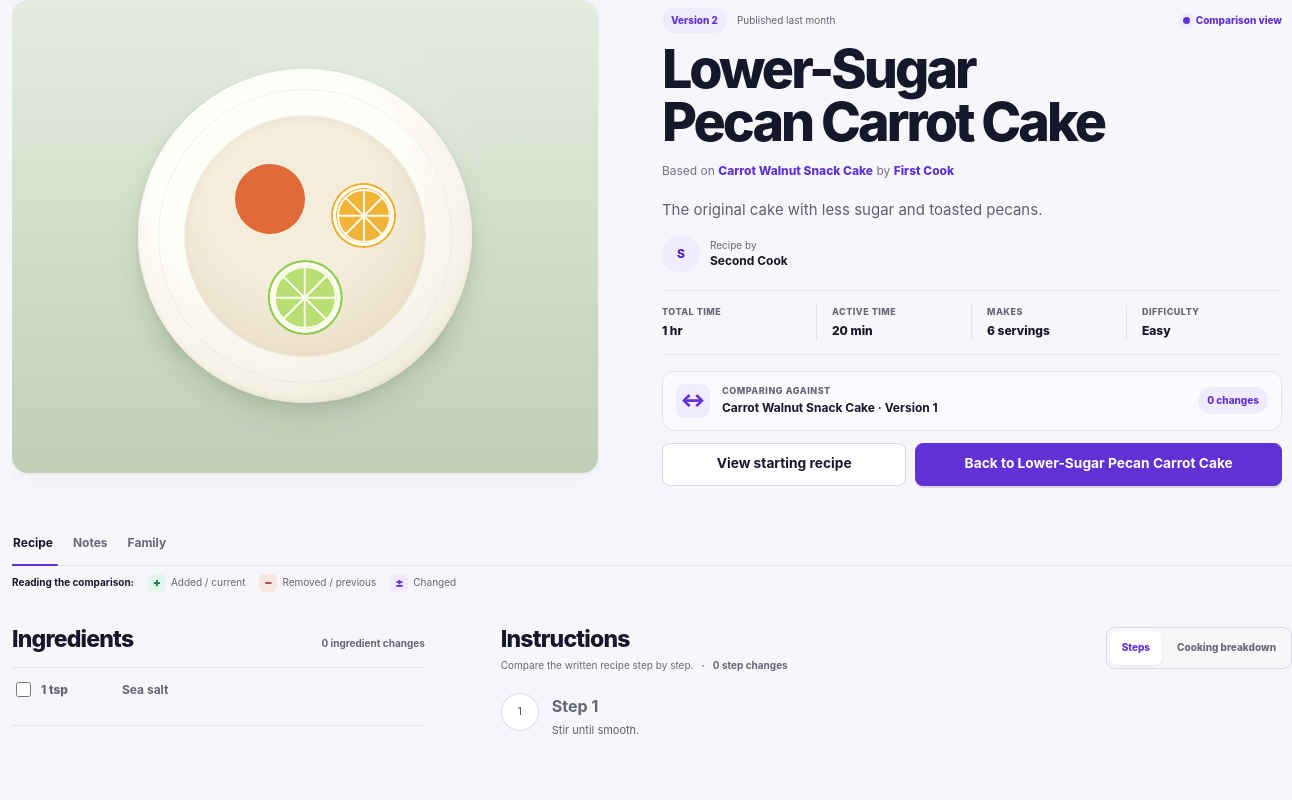
Test: RecipeDiffView › keeps unchanged recipe content visible when the structured diff has zero changes
Check: the element "Ingredients" is shown, box [12,626,425,726]
Check: the text "0 ingredient changes" is shown, box [321,636,425,650]
Click the tab "Cooking breakdown". click: (1227, 648)
box: [1165,631,1288,665]
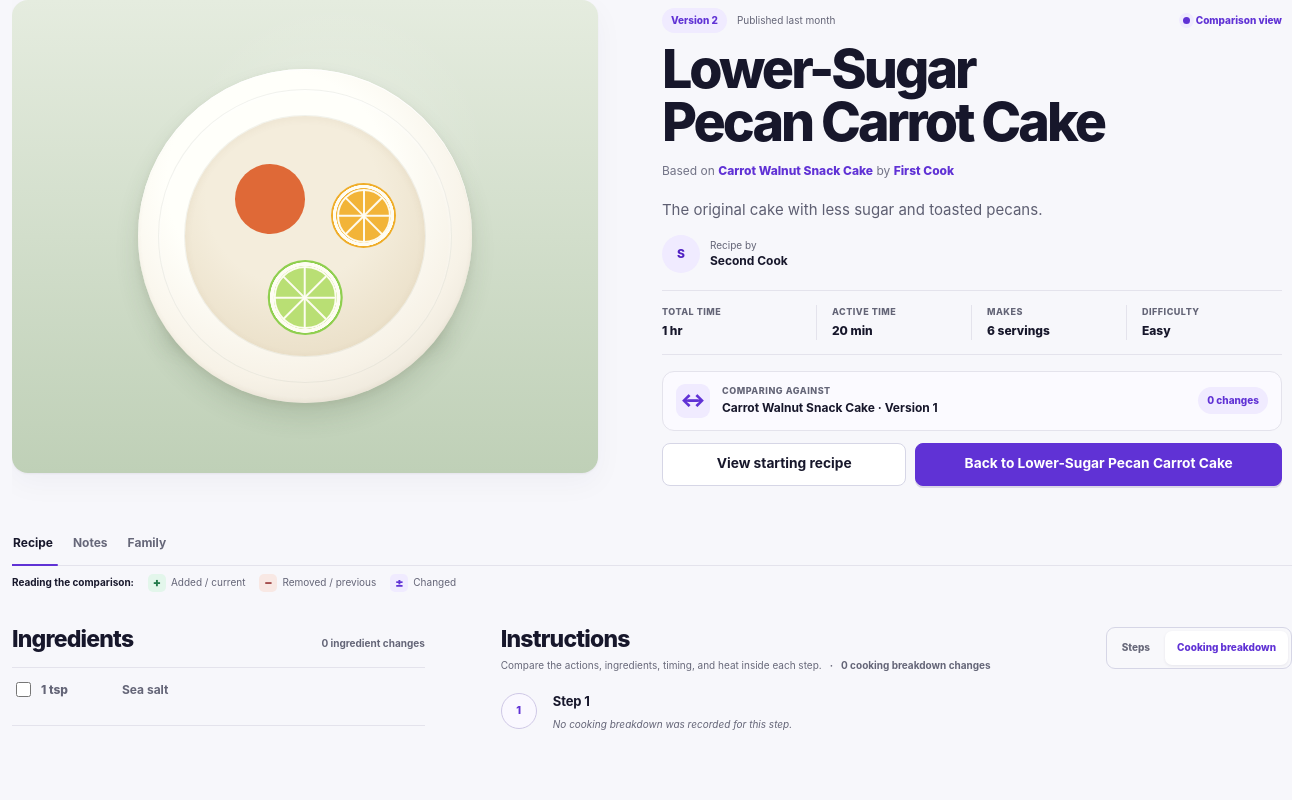
Check: the text "0 changes" is shown, box [1198,387,1268,414]
Check: the text "0 cooking breakdown changes" is shown, box [830,658,991,672]
Check: the text "No cooking breakdown was recorded for this step." is shown, box [553,718,792,730]
Click the tab "Notes". click: (90, 549)
box: [72,534,109,565]
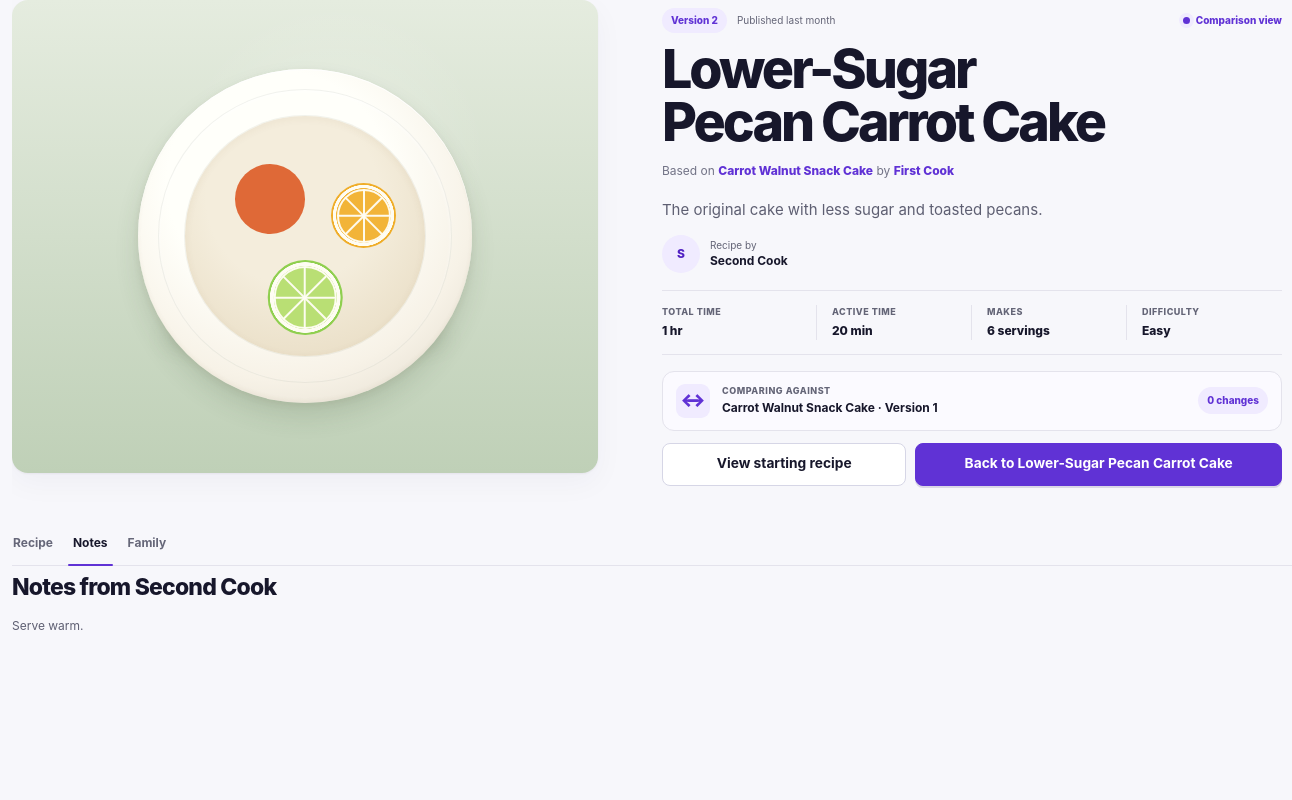
Check: the element "Notes from Second Cook" is shown, box [12,573,276,633]
Check: the text "Serve warm." is shown, box [12,618,84,633]
